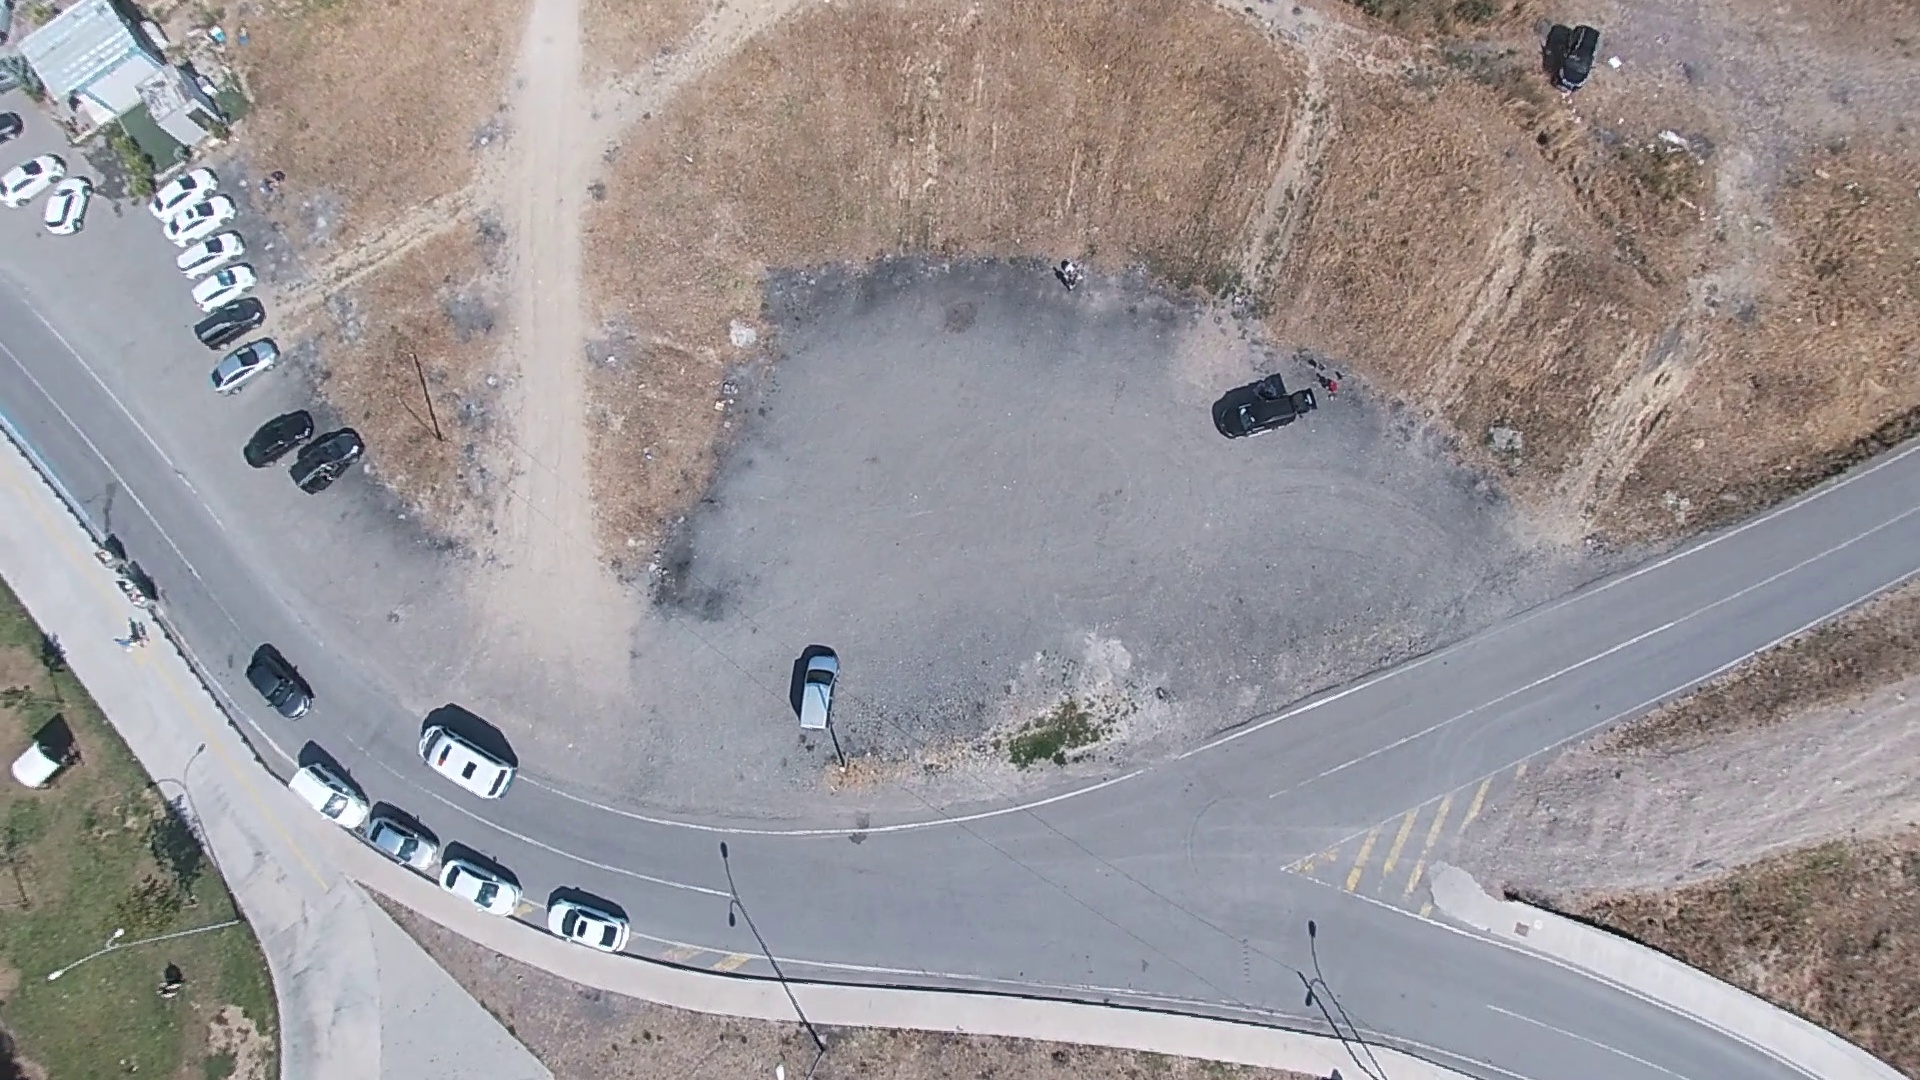arac: (415, 715, 517, 804), (1221, 371, 1324, 440), (242, 643, 313, 726), (543, 889, 623, 950), (287, 430, 357, 494), (204, 336, 270, 390), (40, 173, 88, 236)
insan: (1054, 254, 1088, 295), (155, 960, 189, 996)
